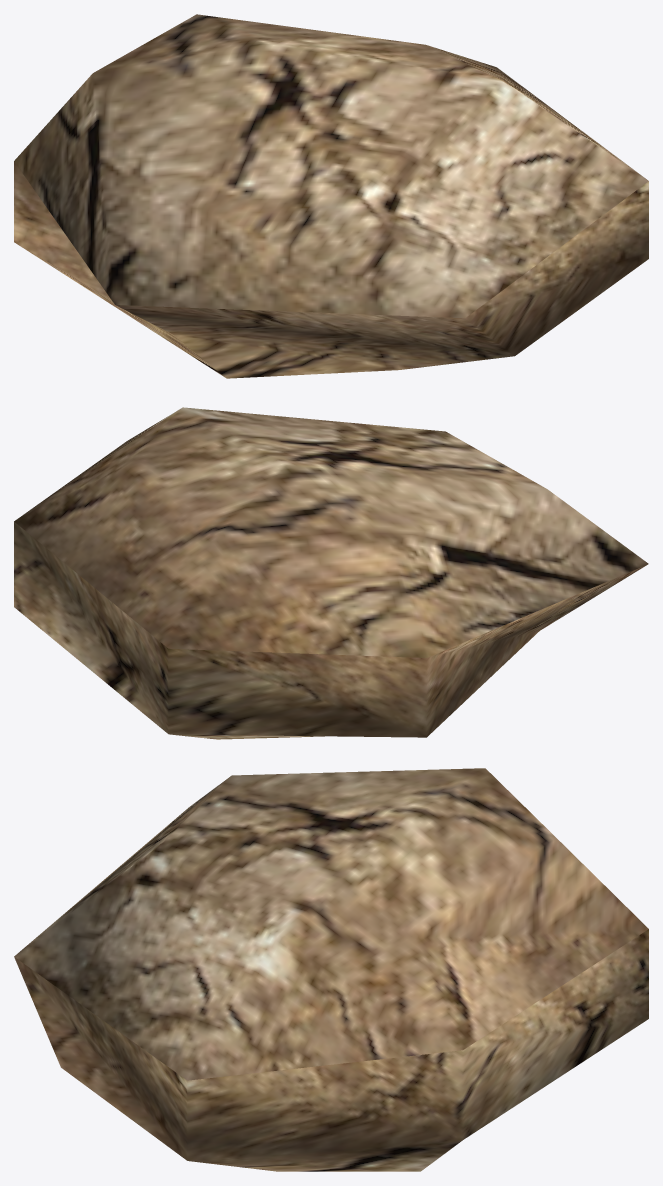
File: des_rockC.fbx
3 views of the same model, one above another, from view 1: azimuth 30°, elevation 25°; view 2: azimuth 150°, elevation 25°; view 3: azimuth 270°, elevation 25° (orthographic). The views are drawn at different scales.
Parts seen in each view (by area): view 1: Sphere.002; view 2: Sphere.002; view 3: Sphere.002.
Boxes of the visible parts, x1,y1,x2,y2 form: Sphere.002: (14, 14, 648, 378); Sphere.002: (14, 407, 648, 739); Sphere.002: (14, 768, 648, 1171).
Size of the model in its own units: 244 by 126 by 244.
1 material, 1 textured.
